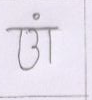anusvara: (33, 13, 40, 20)
